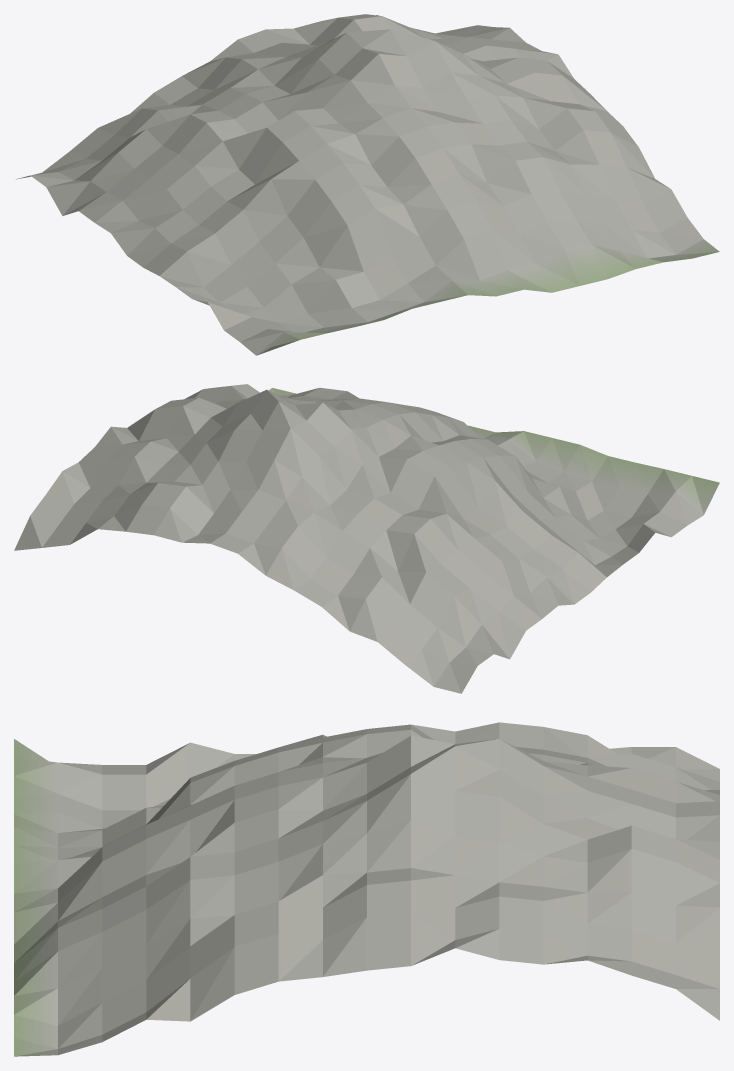
3 views of the same model, one above another, from view 1: azimuth 30°, elevation 25°; view 2: azimuth 150°, elevation 25°; view 3: azimuth 270°, elevation 25° (orthographic). The views are drawn at different scales.
Size of the model in its own units: 32 by 10.66 by 32.
